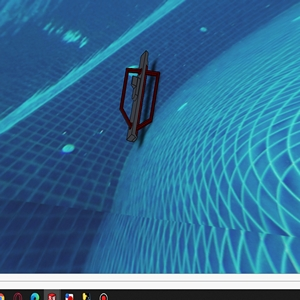submarine: (118, 50, 163, 142)
